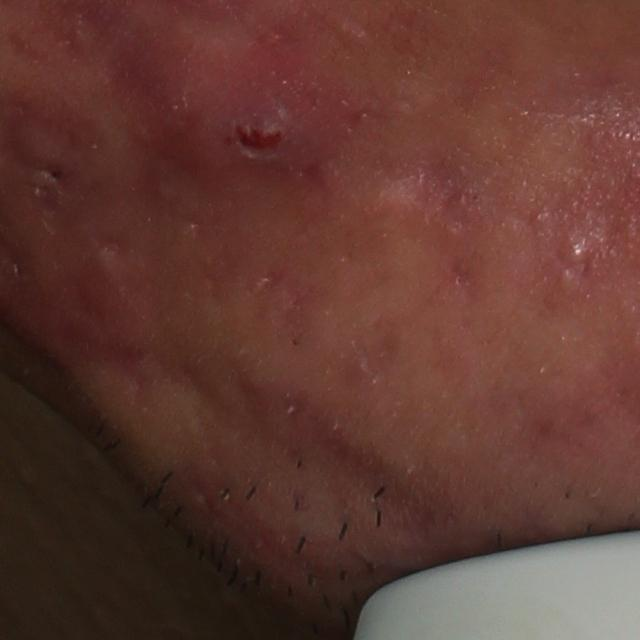hypertrophic_scar: (81, 372, 370, 620)
nodule: (123, 34, 349, 189)
